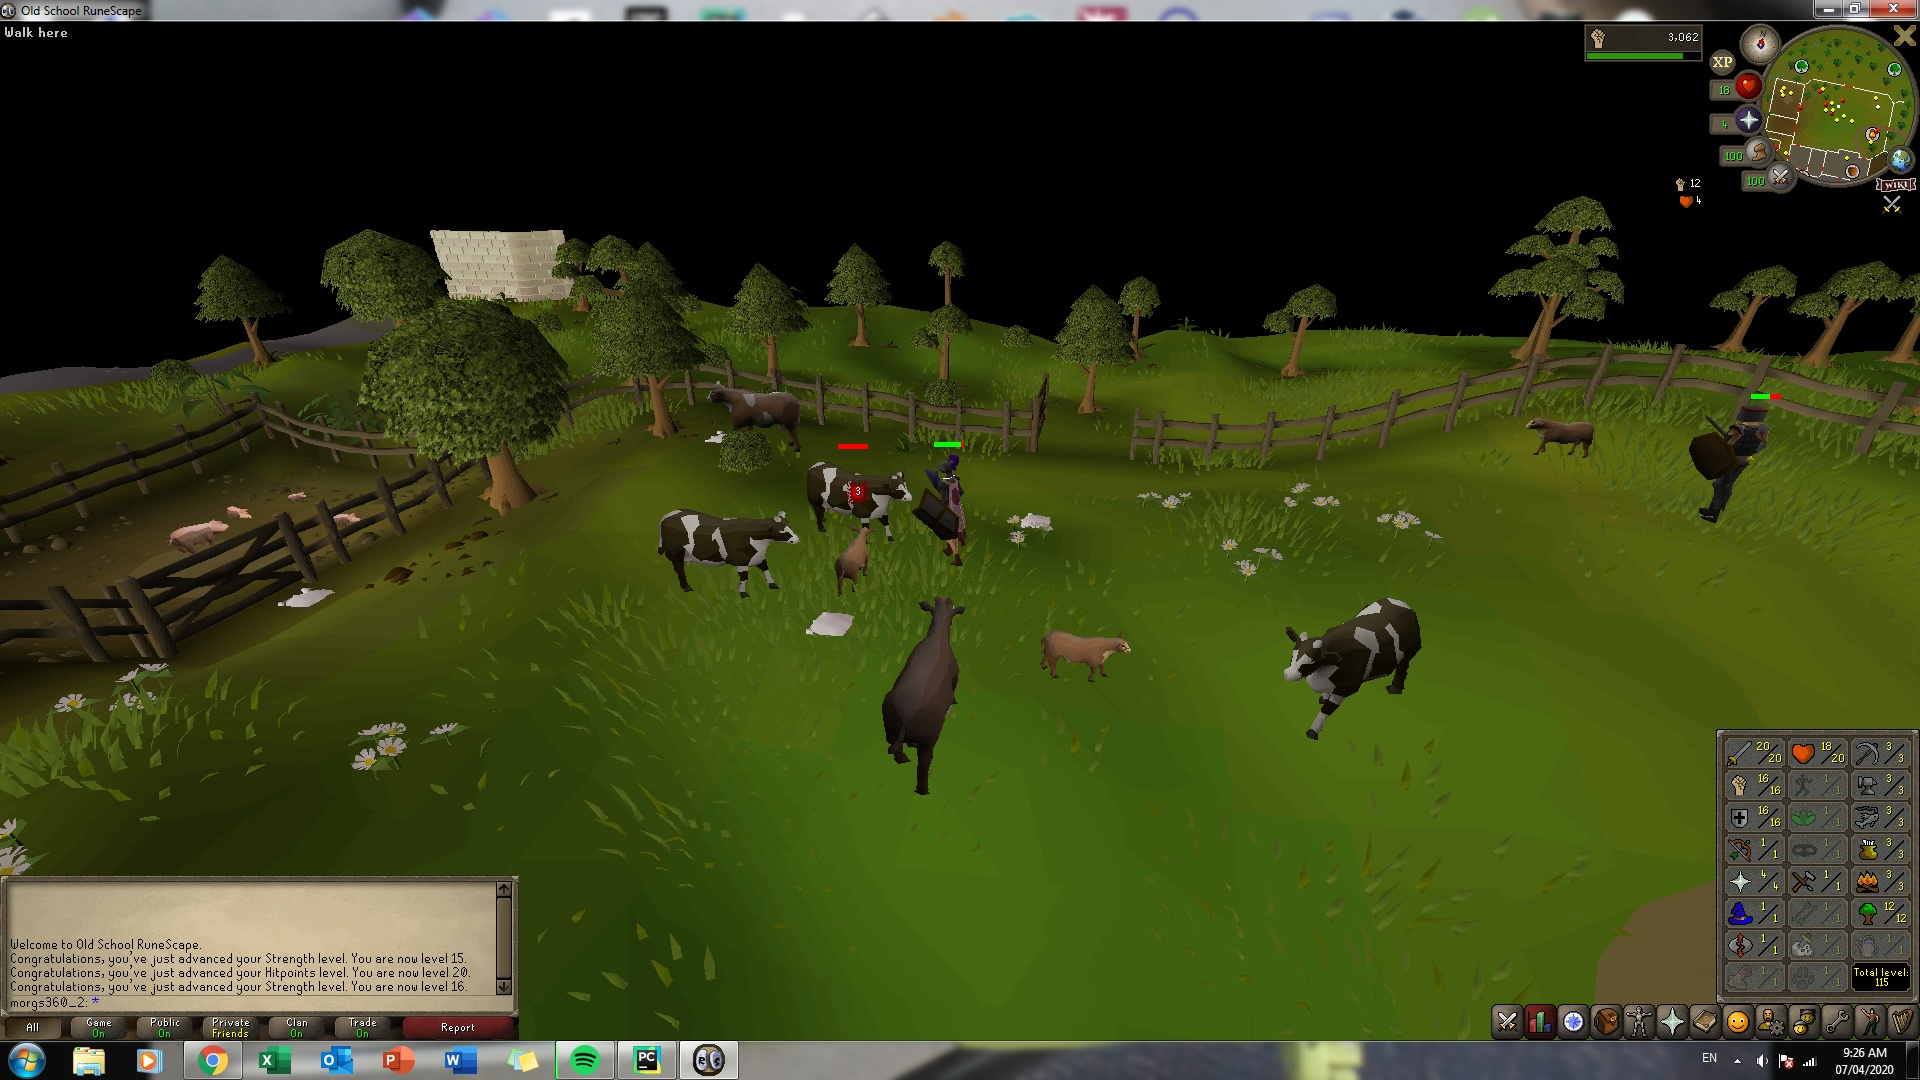cow: (1272, 591, 1424, 743), (883, 591, 967, 794), (645, 502, 803, 604), (803, 454, 913, 523), (707, 380, 805, 447), (1031, 625, 1133, 684), (1526, 413, 1598, 464), (833, 523, 872, 598)
player: (924, 451, 976, 571)
